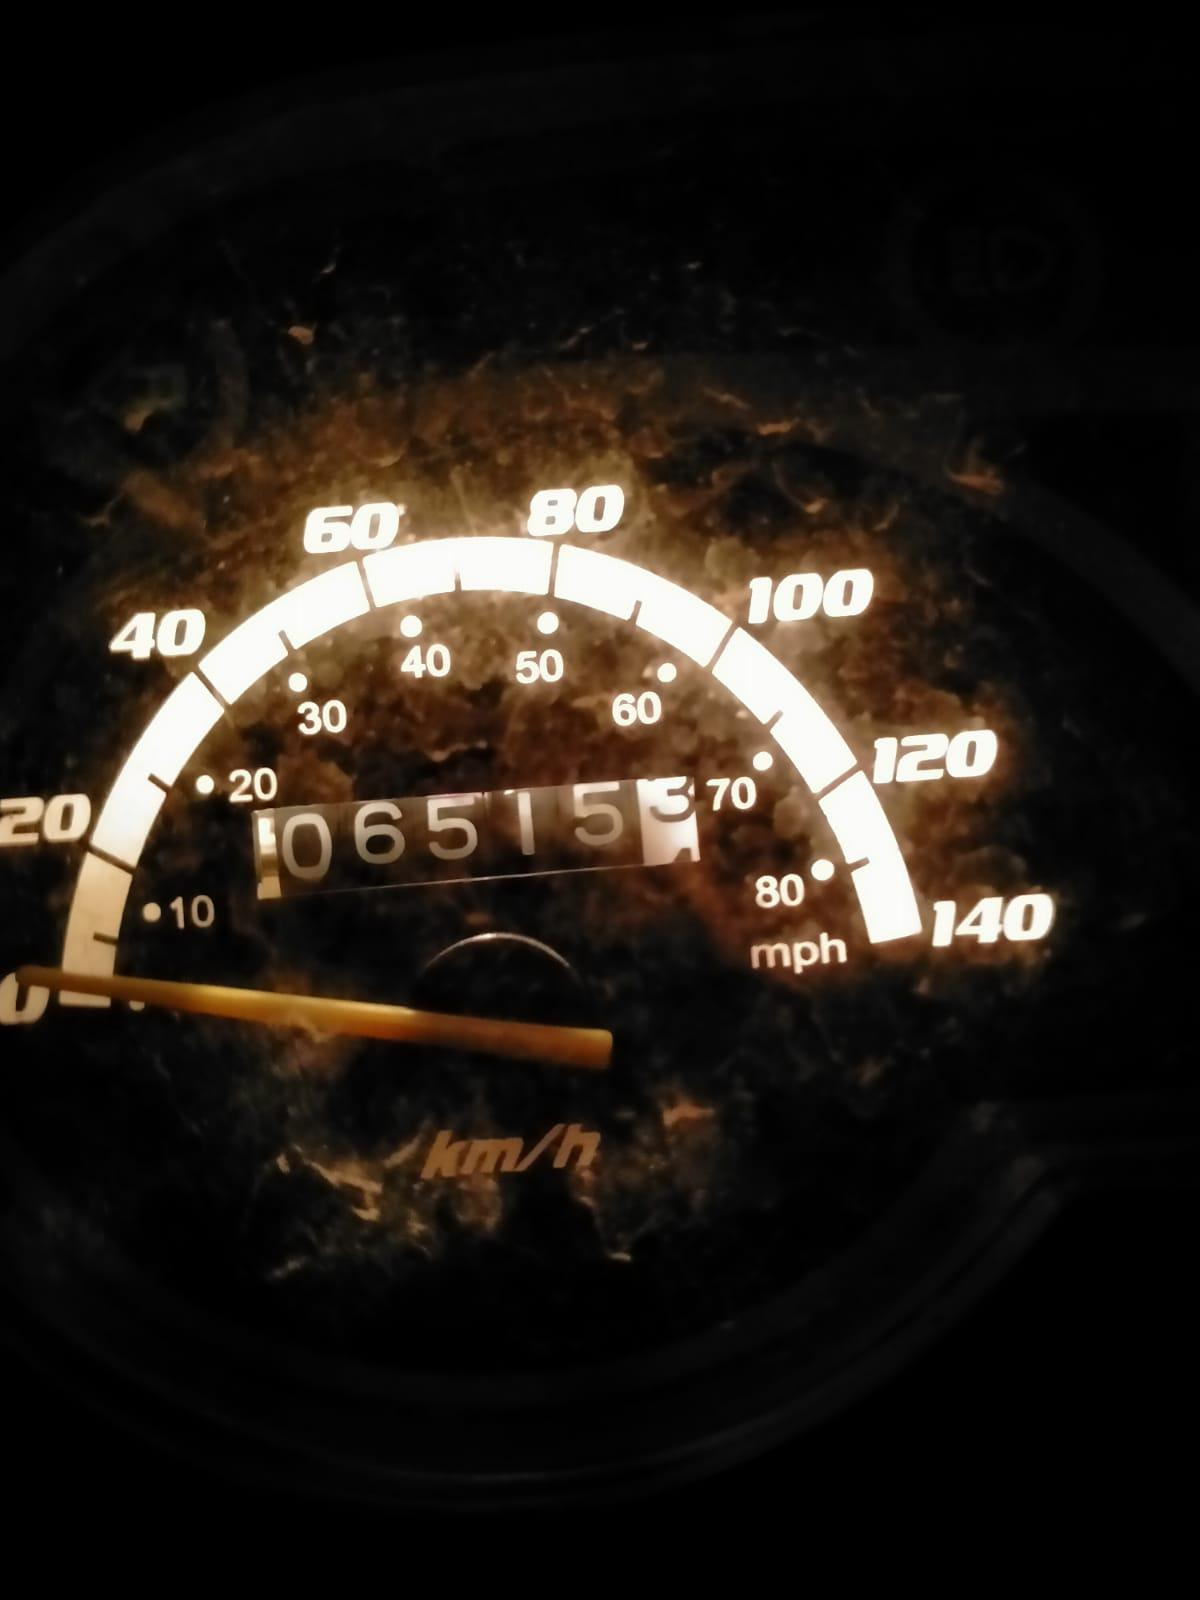0: (281, 809, 339, 884), (253, 766, 281, 801)
1: (507, 785, 550, 862)
3: (637, 771, 703, 834)
5: (422, 791, 485, 864), (570, 779, 629, 847)
6: (349, 795, 411, 867)
odometer: (241, 767, 716, 902)
